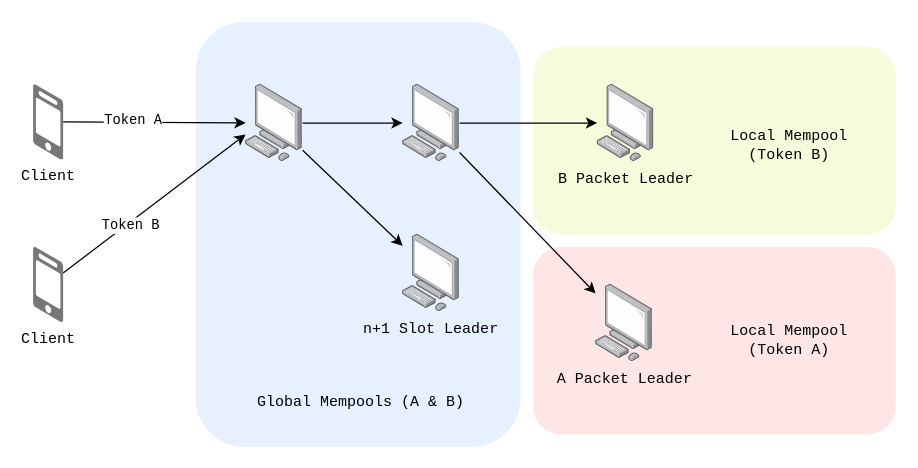
This 918x468 diagram has some shape labels left out. The shapes that lost their labels are listed below. From the top down, each one's centre as x and y in pixels, then its label:
(273,122): Epoch Leader
(430,122): Slot Leader
